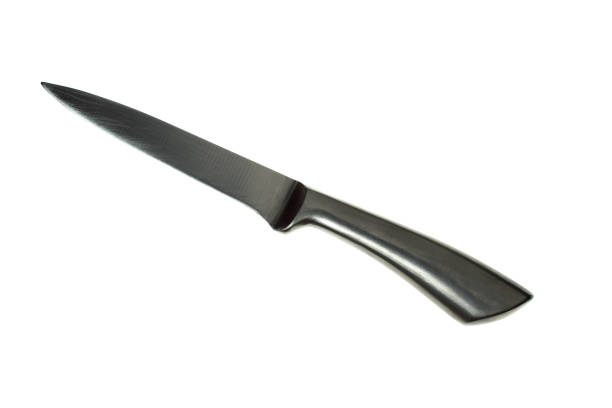knife: (37, 80, 536, 327)
